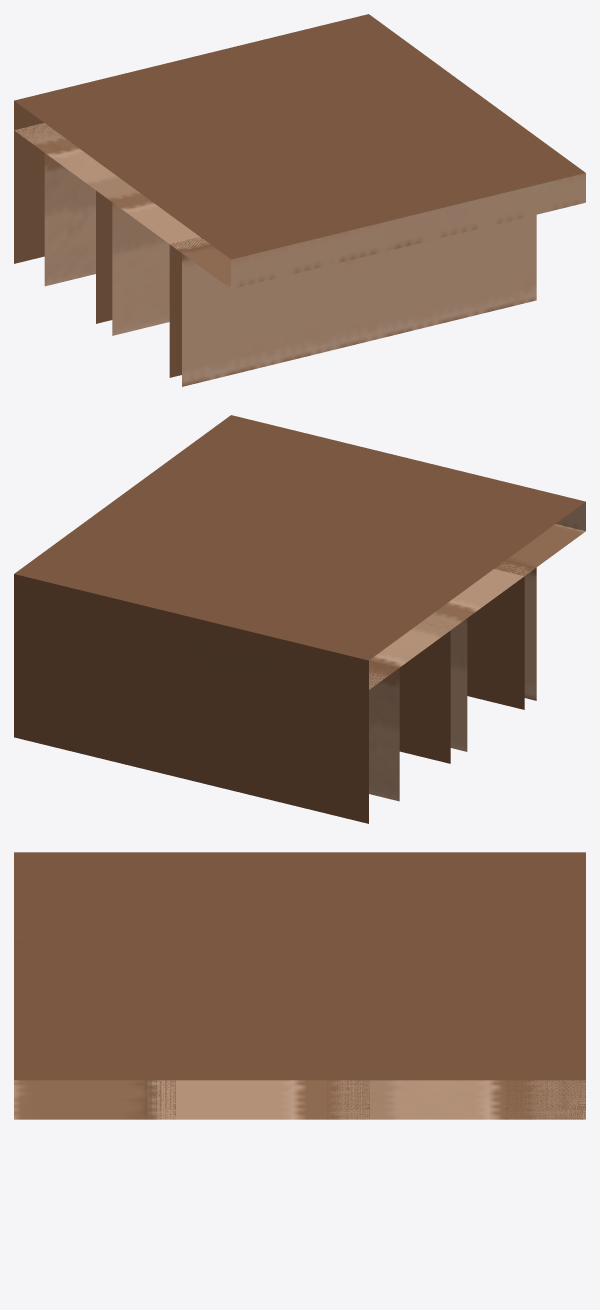
Rendered from pz_g022_location_shop_generic_01_long_shelves_part1.obj.
The picture shows the model from 3 angles, top to bottom: view 1: azimuth 30°, elevation 25°; view 2: azimuth 150°, elevation 25°; view 3: azimuth 270°, elevation 25°; orthographic projection. The views are drawn at different scales.
Parts seen in each view (by area): view 1: rear_panel_front, open_shelf_2_top, rear_panel_top, open_shelf_1_top, rear_panel_rear, open_shelf_0_top, open_shelf_0_bottom, open_shelf_1_bottom, open_shelf_2_bottom; view 2: rear_panel_front, open_shelf_0_bottom, rear_panel_bottom, open_shelf_2_bottom, rear_panel_rear, open_shelf_1_bottom, open_shelf_0_top, open_shelf_1_top, open_shelf_2_top; view 3: rear_panel_front, rear_panel_rear, open_shelf_0_front, open_shelf_1_front, open_shelf_2_front.
Boxes of the visible parts, box(x1,y1,x2,y2) form: rear_panel_front: box(14, 14, 585, 259); open_shelf_2_top: box(182, 215, 536, 386); rear_panel_top: box(231, 173, 585, 289); open_shelf_1_top: box(112, 202, 169, 335); rear_panel_rear: box(14, 123, 230, 288); open_shelf_0_top: box(44, 153, 95, 286); open_shelf_0_bottom: box(14, 130, 44, 263); open_shelf_1_bottom: box(96, 190, 112, 323); open_shelf_2_bottom: box(169, 244, 181, 377); rear_panel_front: box(14, 415, 585, 660); open_shelf_0_bottom: box(14, 603, 368, 823); rear_panel_bottom: box(14, 574, 368, 690); open_shelf_2_bottom: box(467, 576, 524, 709); rear_panel_rear: box(369, 524, 585, 689); open_shelf_1_bottom: box(399, 630, 450, 763); open_shelf_0_top: box(369, 668, 399, 801); open_shelf_1_top: box(450, 618, 467, 751); open_shelf_2_top: box(524, 567, 536, 700); rear_panel_front: box(14, 852, 585, 1080); rear_panel_rear: box(14, 1080, 585, 1119); open_shelf_0_front: box(505, 1080, 585, 1119); open_shelf_1_front: box(327, 1080, 369, 1119); open_shelf_2_front: box(144, 1080, 175, 1119).
Bounding box in the file's own units: 1 × 0.44 × 1.06.
Materials: 1 (1 with a texture image).
